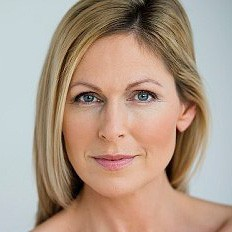eyes: (125, 90, 166, 105), (72, 91, 105, 106)
mouth: (87, 153, 143, 170)
nose: (98, 105, 127, 142)
